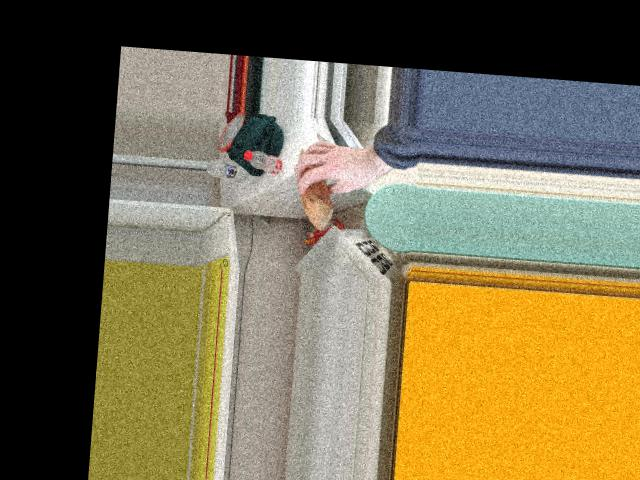sweet_potato: (292, 143, 335, 228)
